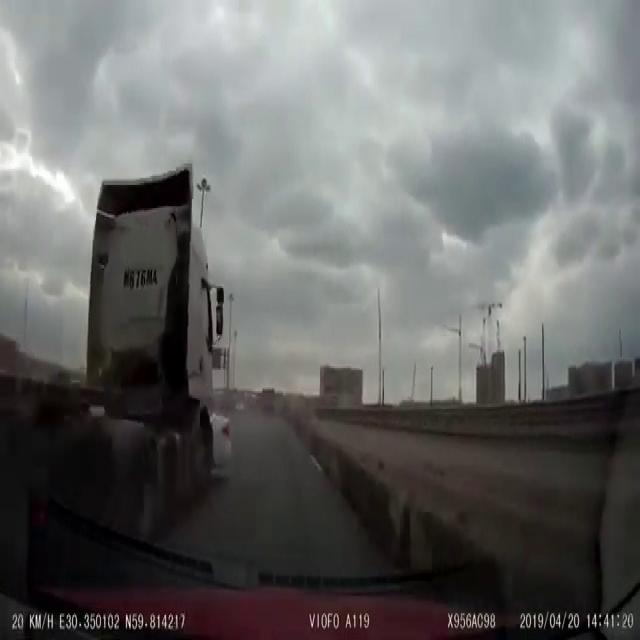accident: (0, 156, 238, 594)
